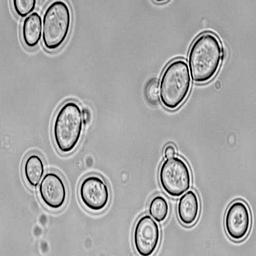Yeast: (48, 96, 95, 160), (154, 141, 196, 200), (185, 28, 225, 88), (37, 0, 76, 57), (156, 55, 193, 114), (75, 169, 115, 219), (35, 166, 72, 217), (128, 209, 164, 256), (221, 195, 254, 246), (19, 146, 50, 196), (173, 184, 204, 231), (17, 6, 47, 54), (143, 188, 174, 228), (8, 0, 40, 23)
